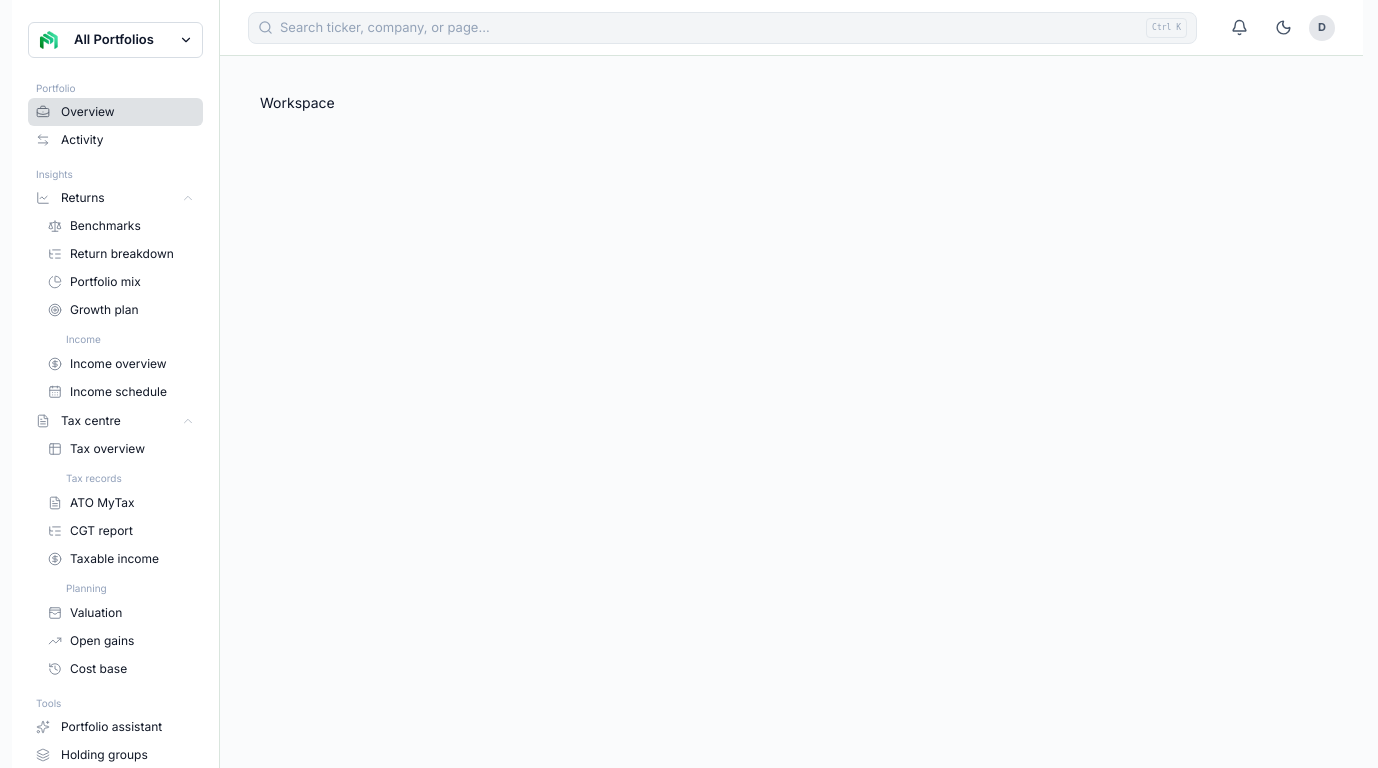
Test: Navexa-depth workspace routes › collapses report sections and the complete sidebar rail
Click the button "Returns" at (116, 198), box [28,184,203,212]
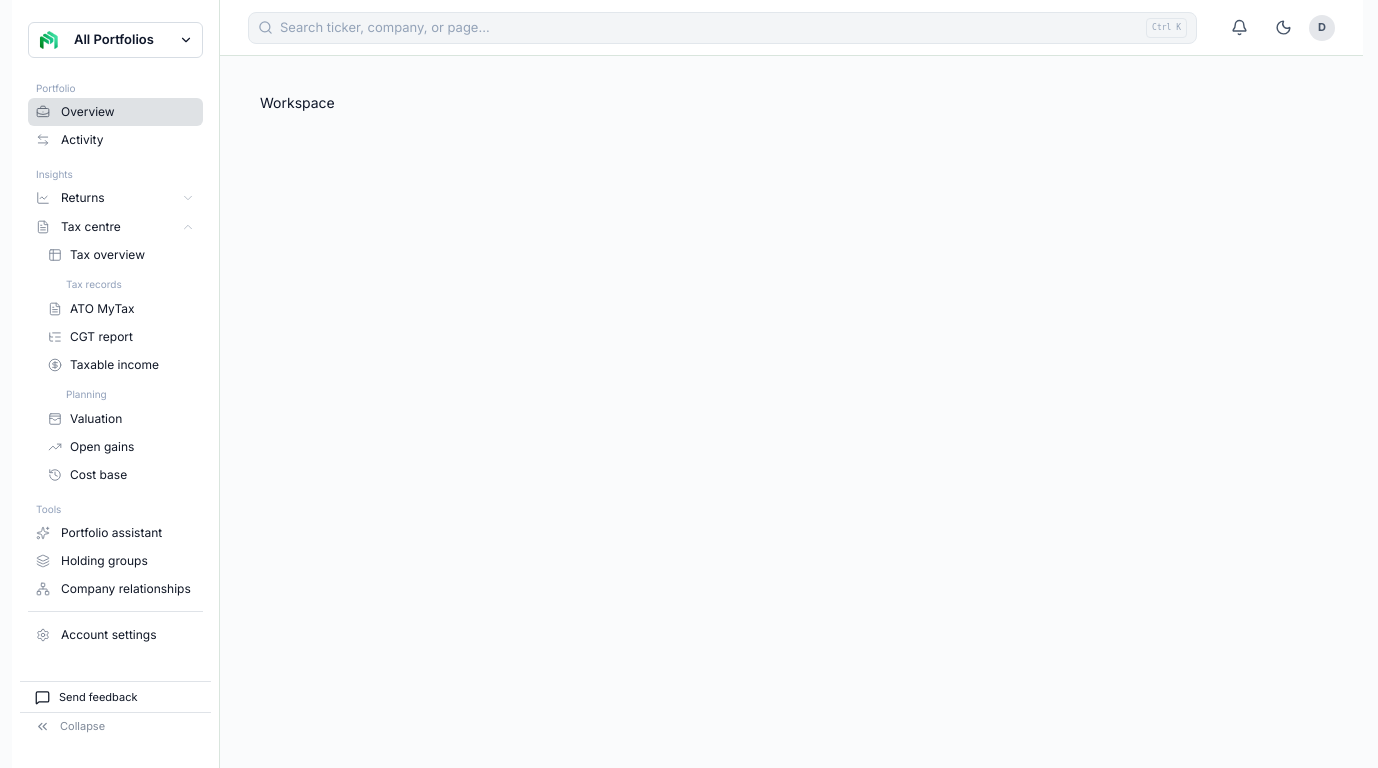
Check: the link "Benchmarks" is gone
Click the button with aria-label "Collapse sidebar" at (116, 726), box [20,709,211,743]
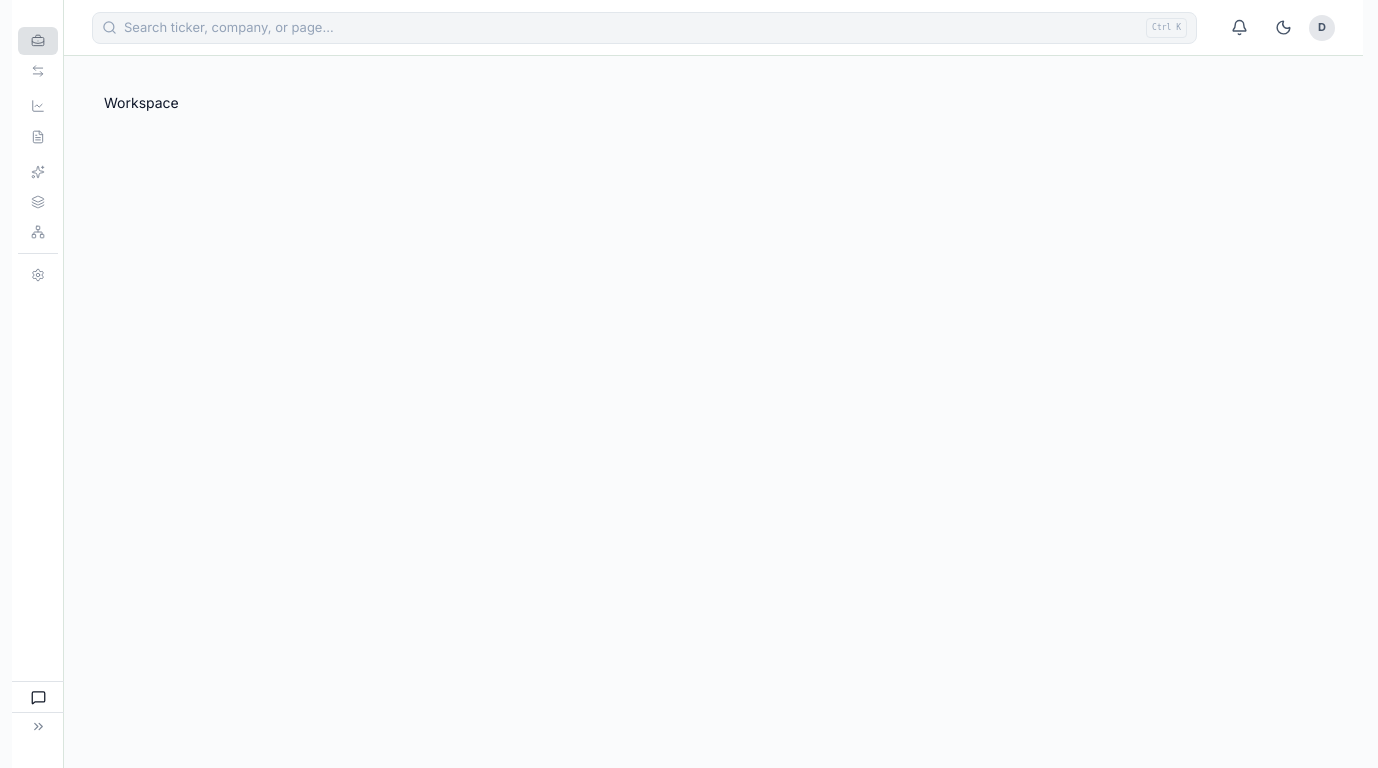
Check: the button named "Expand sidebar" is shown, box [12,709,64,743]
